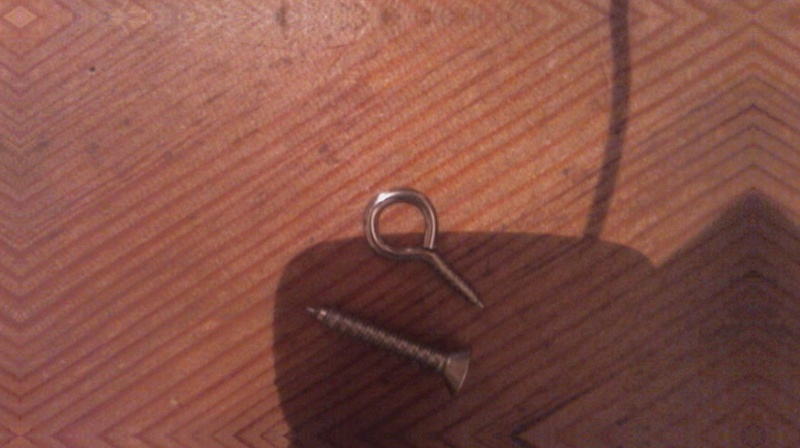O001: (364, 186, 486, 312)
S001: (304, 303, 474, 396)
